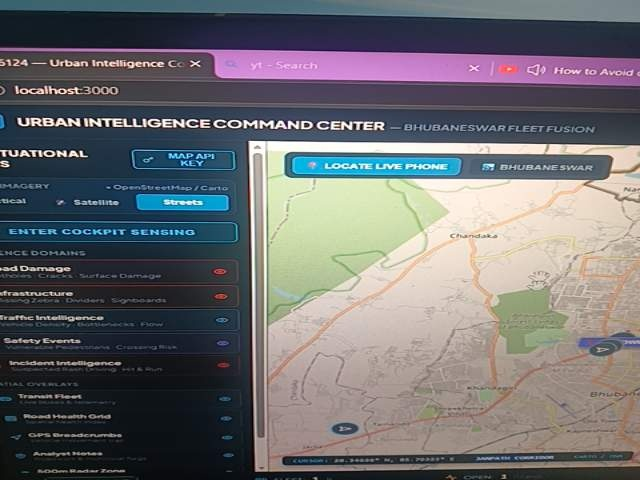pothole: (108, 403, 324, 480)
